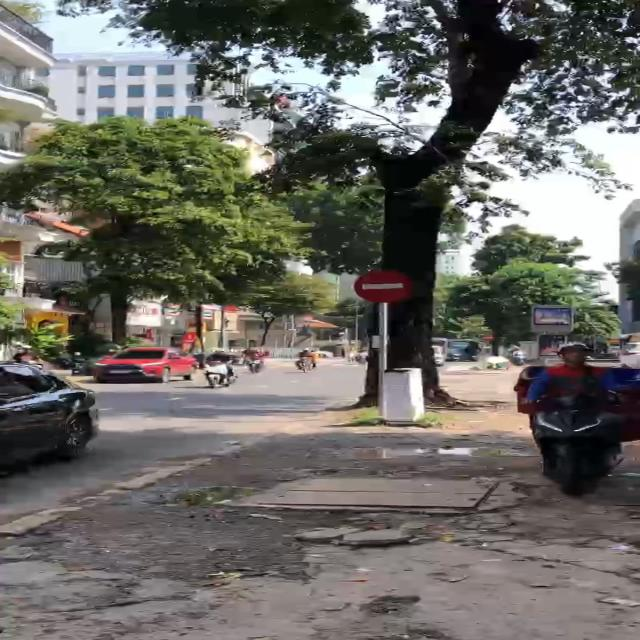Bien bao cam di nguoc chieu: (352, 268, 418, 304)
